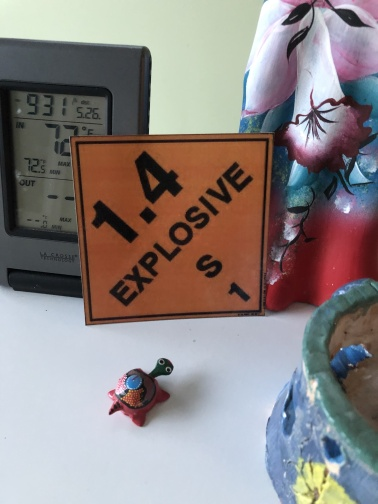Explosive: (67, 136, 263, 315)
